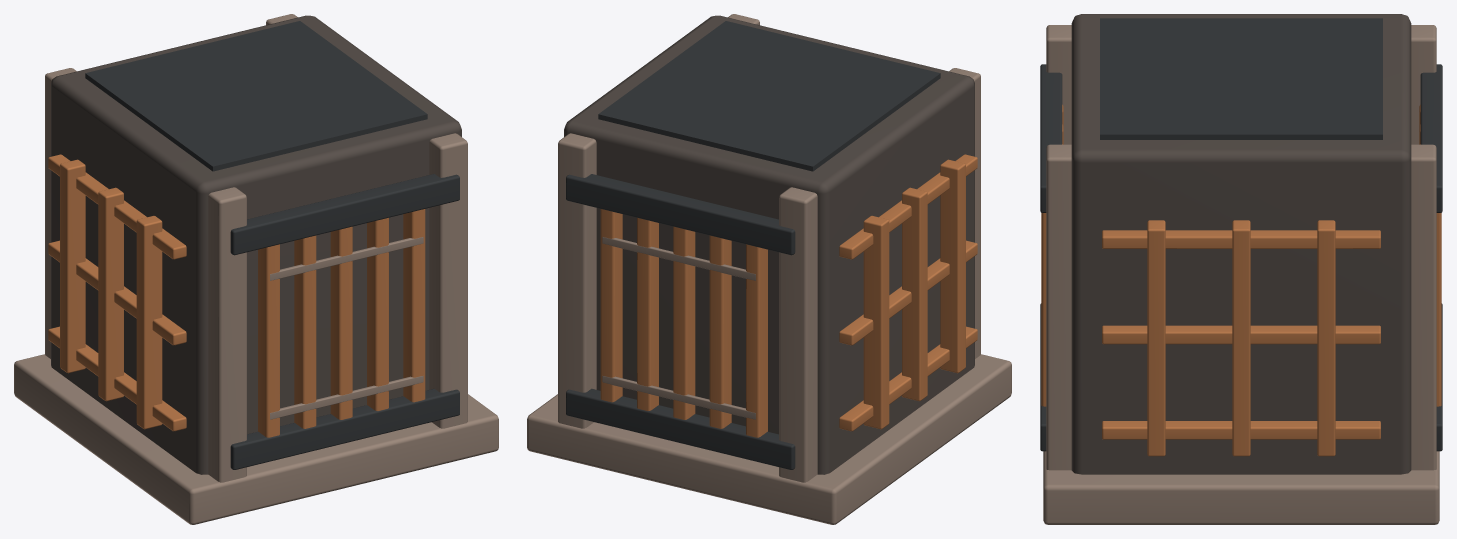
File: refinery-base-0.glb
The picture shows the model from 3 angles, left to right: view 1: azimuth 30°, elevation 25°; view 2: azimuth 150°, elevation 25°; view 3: azimuth 270°, elevation 25°; orthographic projection. The views are drawn at different scales.
Visible parts, largest first — view 1: refinery_0, refinery_1, refinery_2, refinery_3; view 2: refinery_0, refinery_1, refinery_2, refinery_3; view 3: refinery_0, refinery_1, refinery_2, refinery_3.
Boxes of the visible parts, x1,y1,x2,y2 form: refinery_0: (51, 15, 461, 474); refinery_1: (14, 14, 498, 524); refinery_2: (85, 21, 459, 469); refinery_3: (48, 154, 425, 437); refinery_0: (564, 15, 974, 474); refinery_1: (527, 14, 1011, 524); refinery_2: (566, 21, 940, 469); refinery_3: (600, 154, 977, 437); refinery_0: (1071, 14, 1411, 474); refinery_1: (1043, 25, 1439, 524); refinery_2: (1040, 18, 1442, 451); refinery_3: (1041, 104, 1441, 456).
Bounding box in the file's own units: 0.98 × 1 × 0.995.
